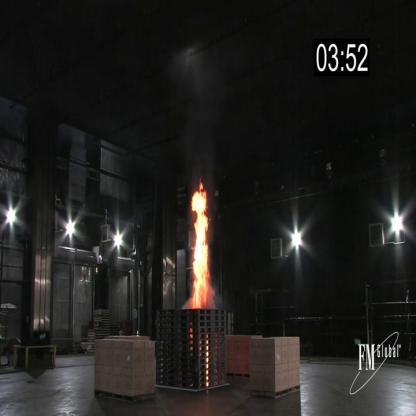fire: (188, 178, 212, 312)
